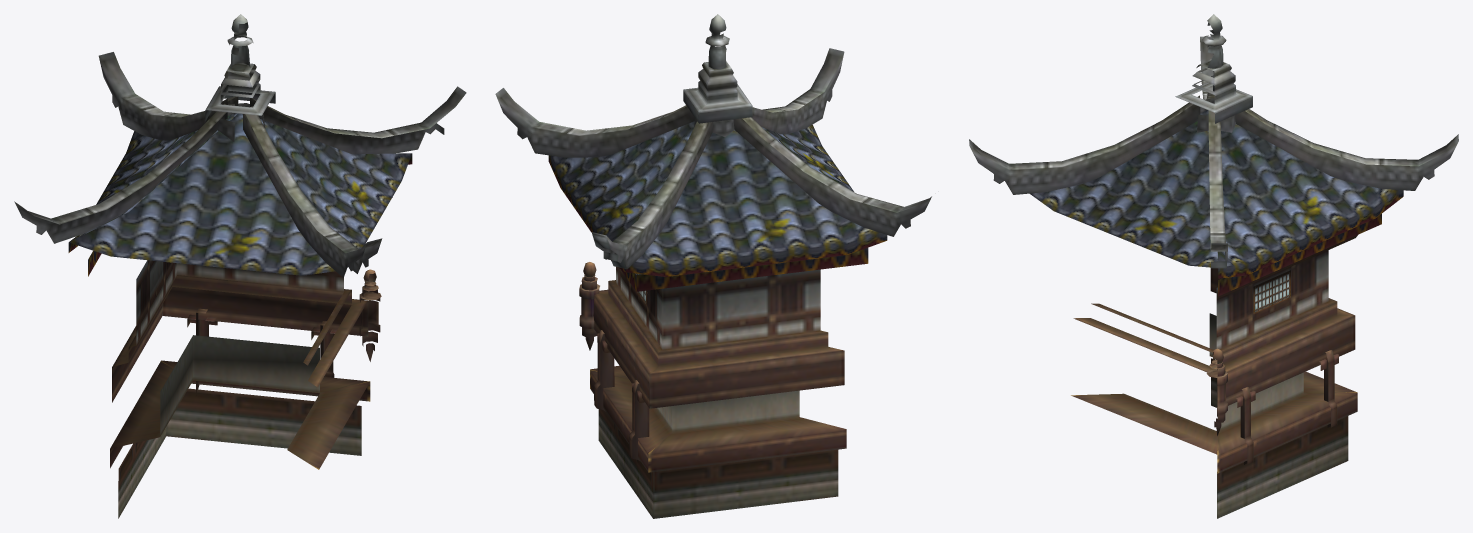
File: S2_Build_XSC016_H4.FBX
3 renders of one model, left to right at view 1: azimuth 30°, elevation 25°; view 2: azimuth 150°, elevation 25°; view 3: azimuth 270°, elevation 25°, orthographic. The views are drawn at different scales.
Parts seen in each view (by area): view 1: S2_Build_XSC016_H4; view 2: S2_Build_XSC016_H4; view 3: S2_Build_XSC016_H4.
Part boxes in pixels (x1,y1,x2,y2): S2_Build_XSC016_H4: (14, 14, 466, 518); S2_Build_XSC016_H4: (495, 14, 931, 518); S2_Build_XSC016_H4: (969, 14, 1458, 518).
Size of the model in its own units: 6038 by 6077 by 6011.
